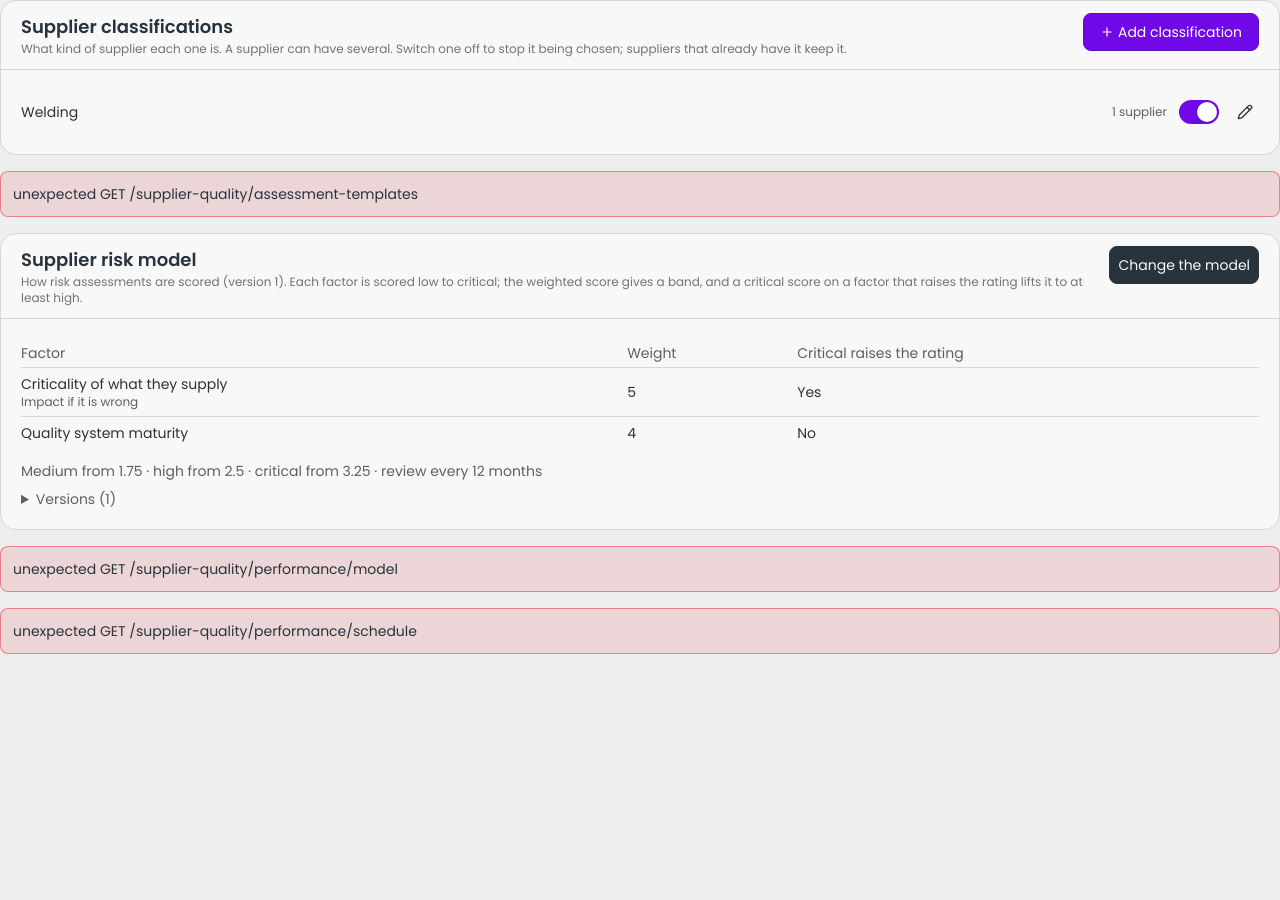
settings: the risk model › refuses thresholds that do not rise
Click the button "Change the model" at (1184, 265), box [1110,246,1259,284]
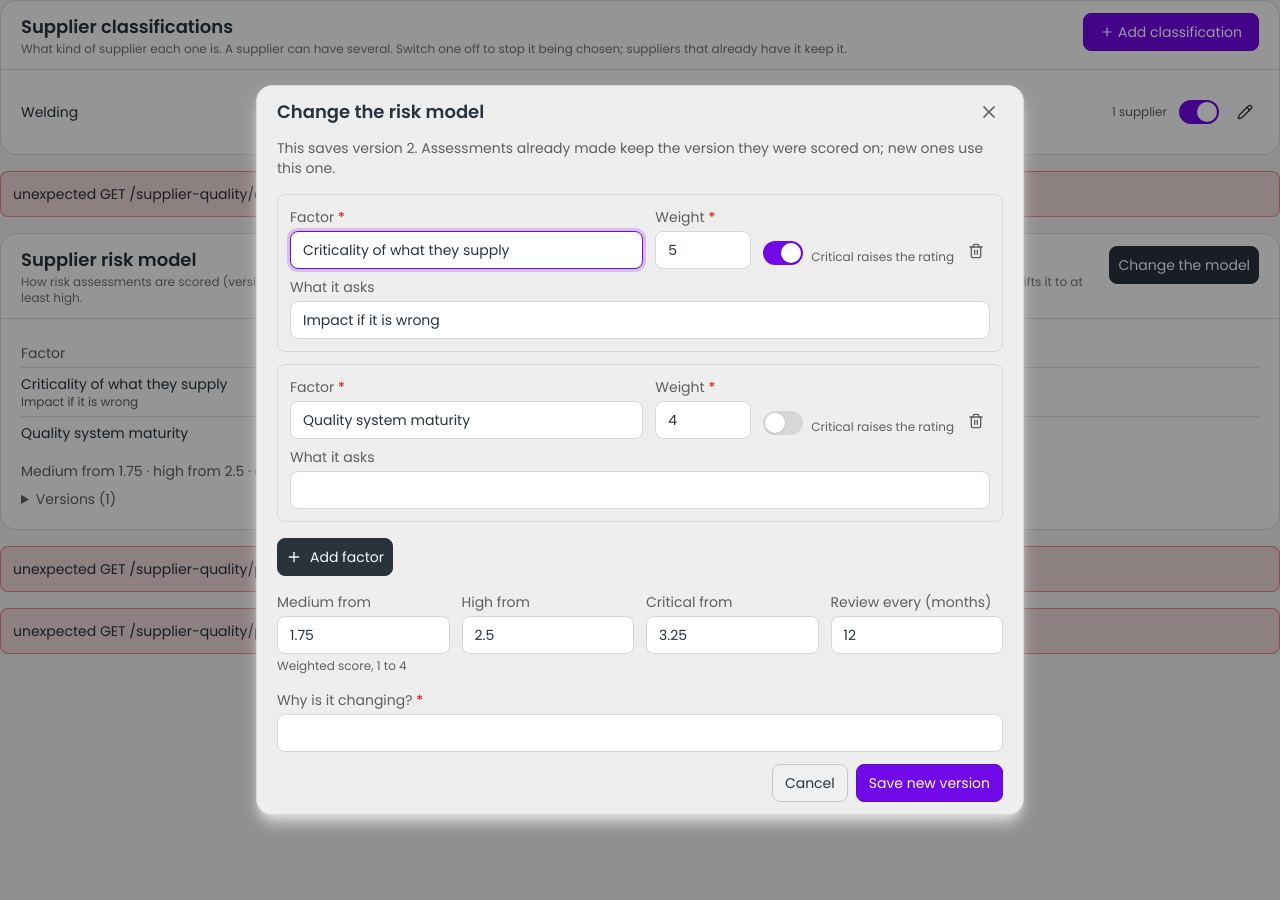
Replace the text in the number field labelled "High from" with "1.2" at (548, 635), box [462,616,634,654]
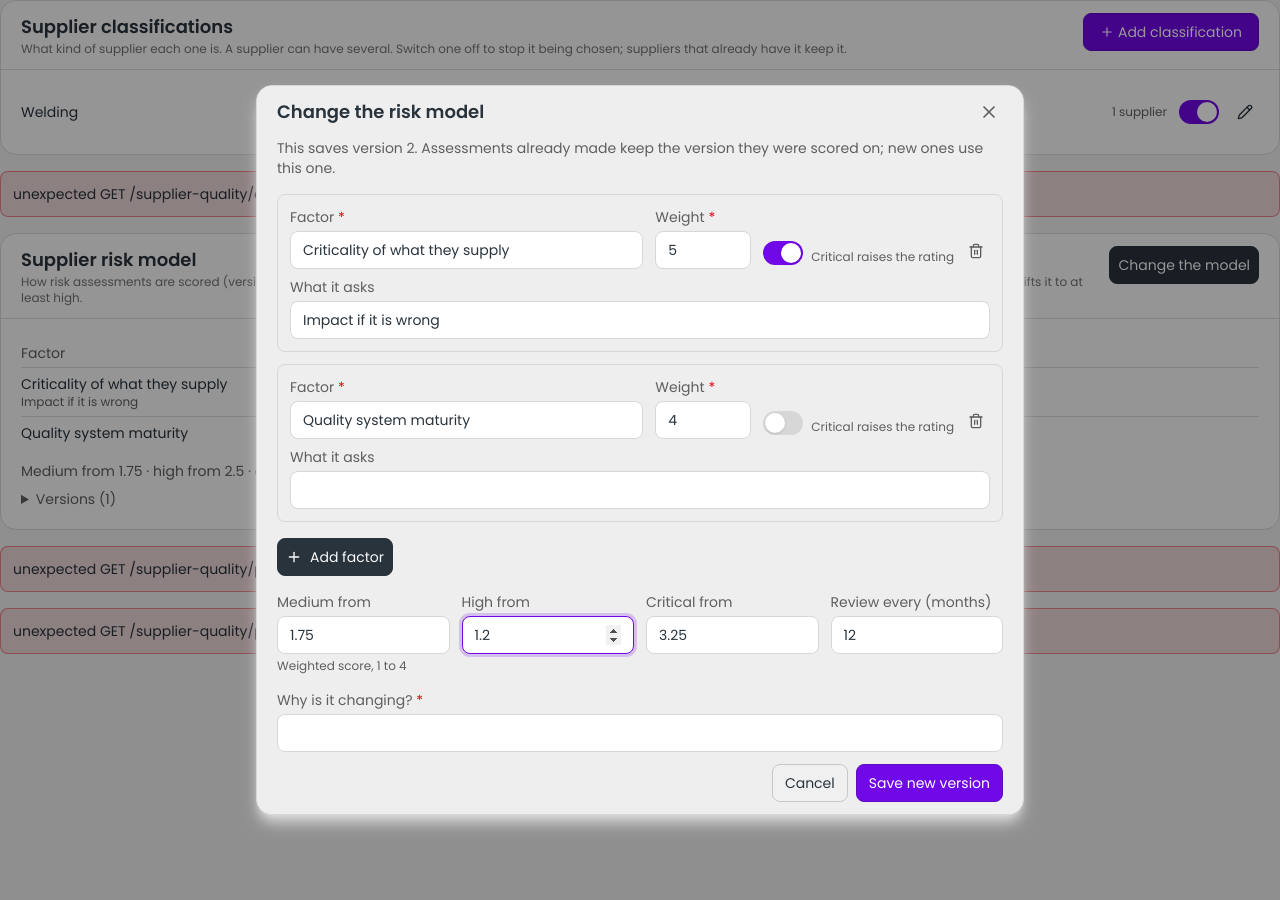
Type "Testing" into the field labelled "Why is it changing?" at (640, 733), box [277,714,1003,752]
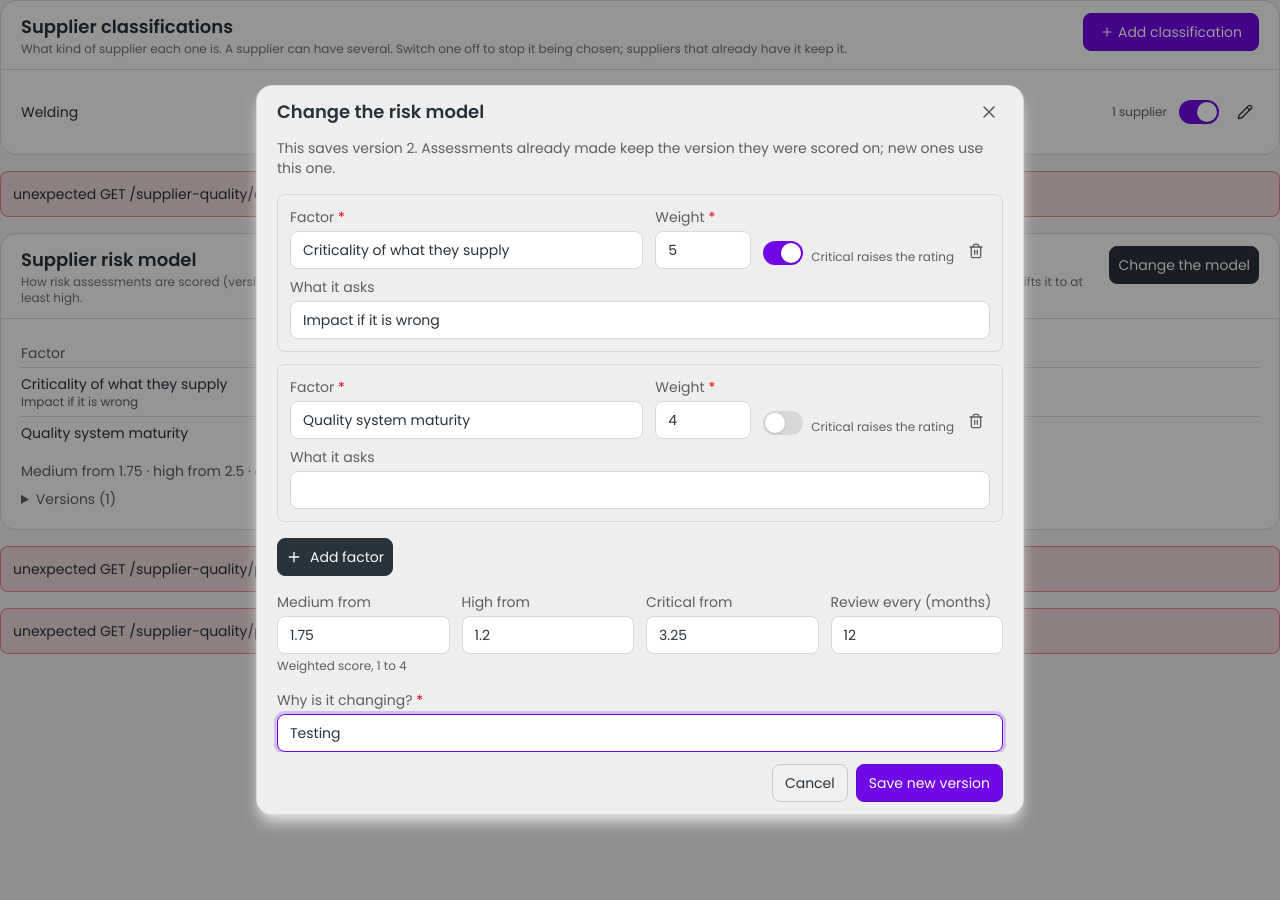
Click the button "Save new version" at (929, 783), box [856,764,1003,802]
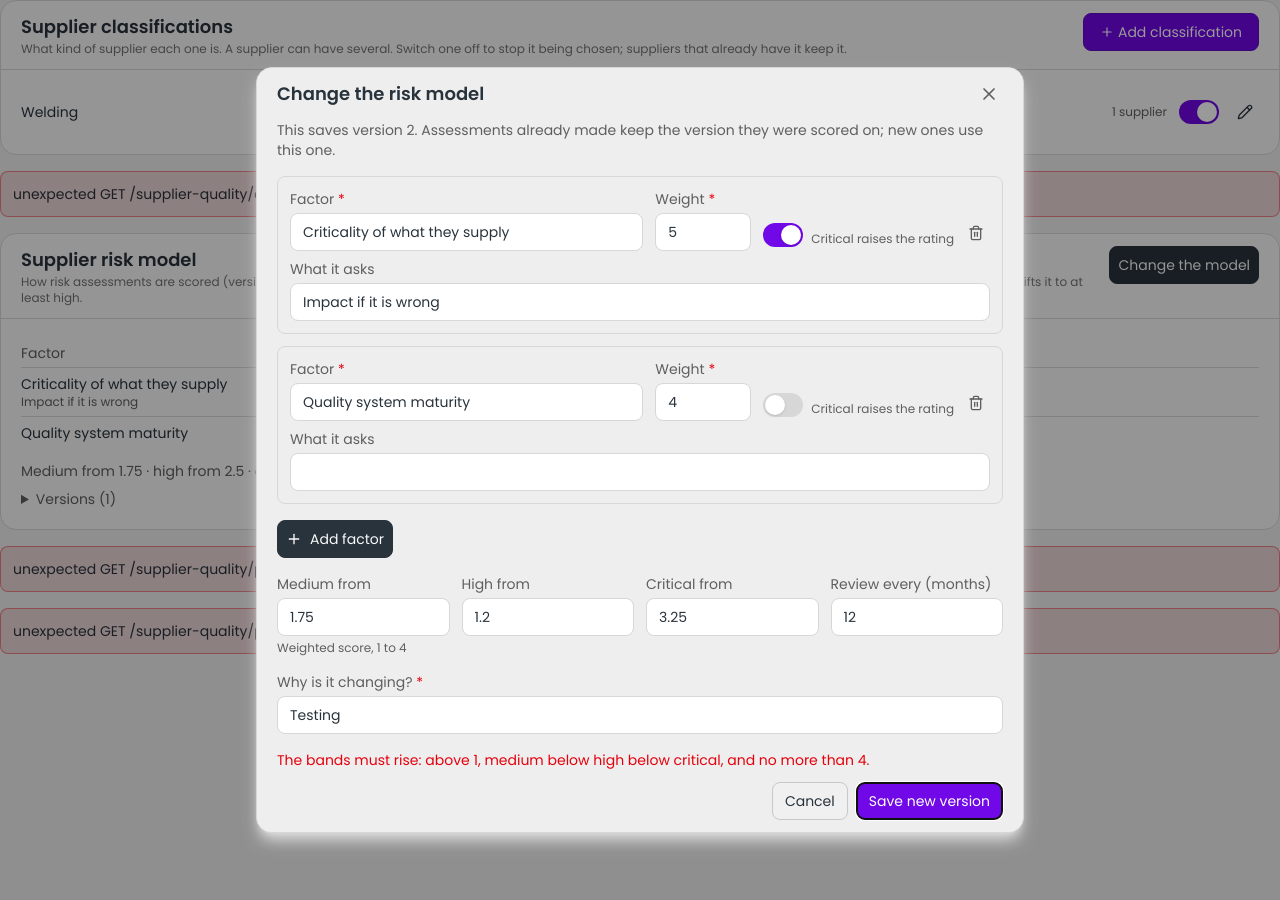
Expected: the message shows "The bands must rise", [277,750,870,770]
